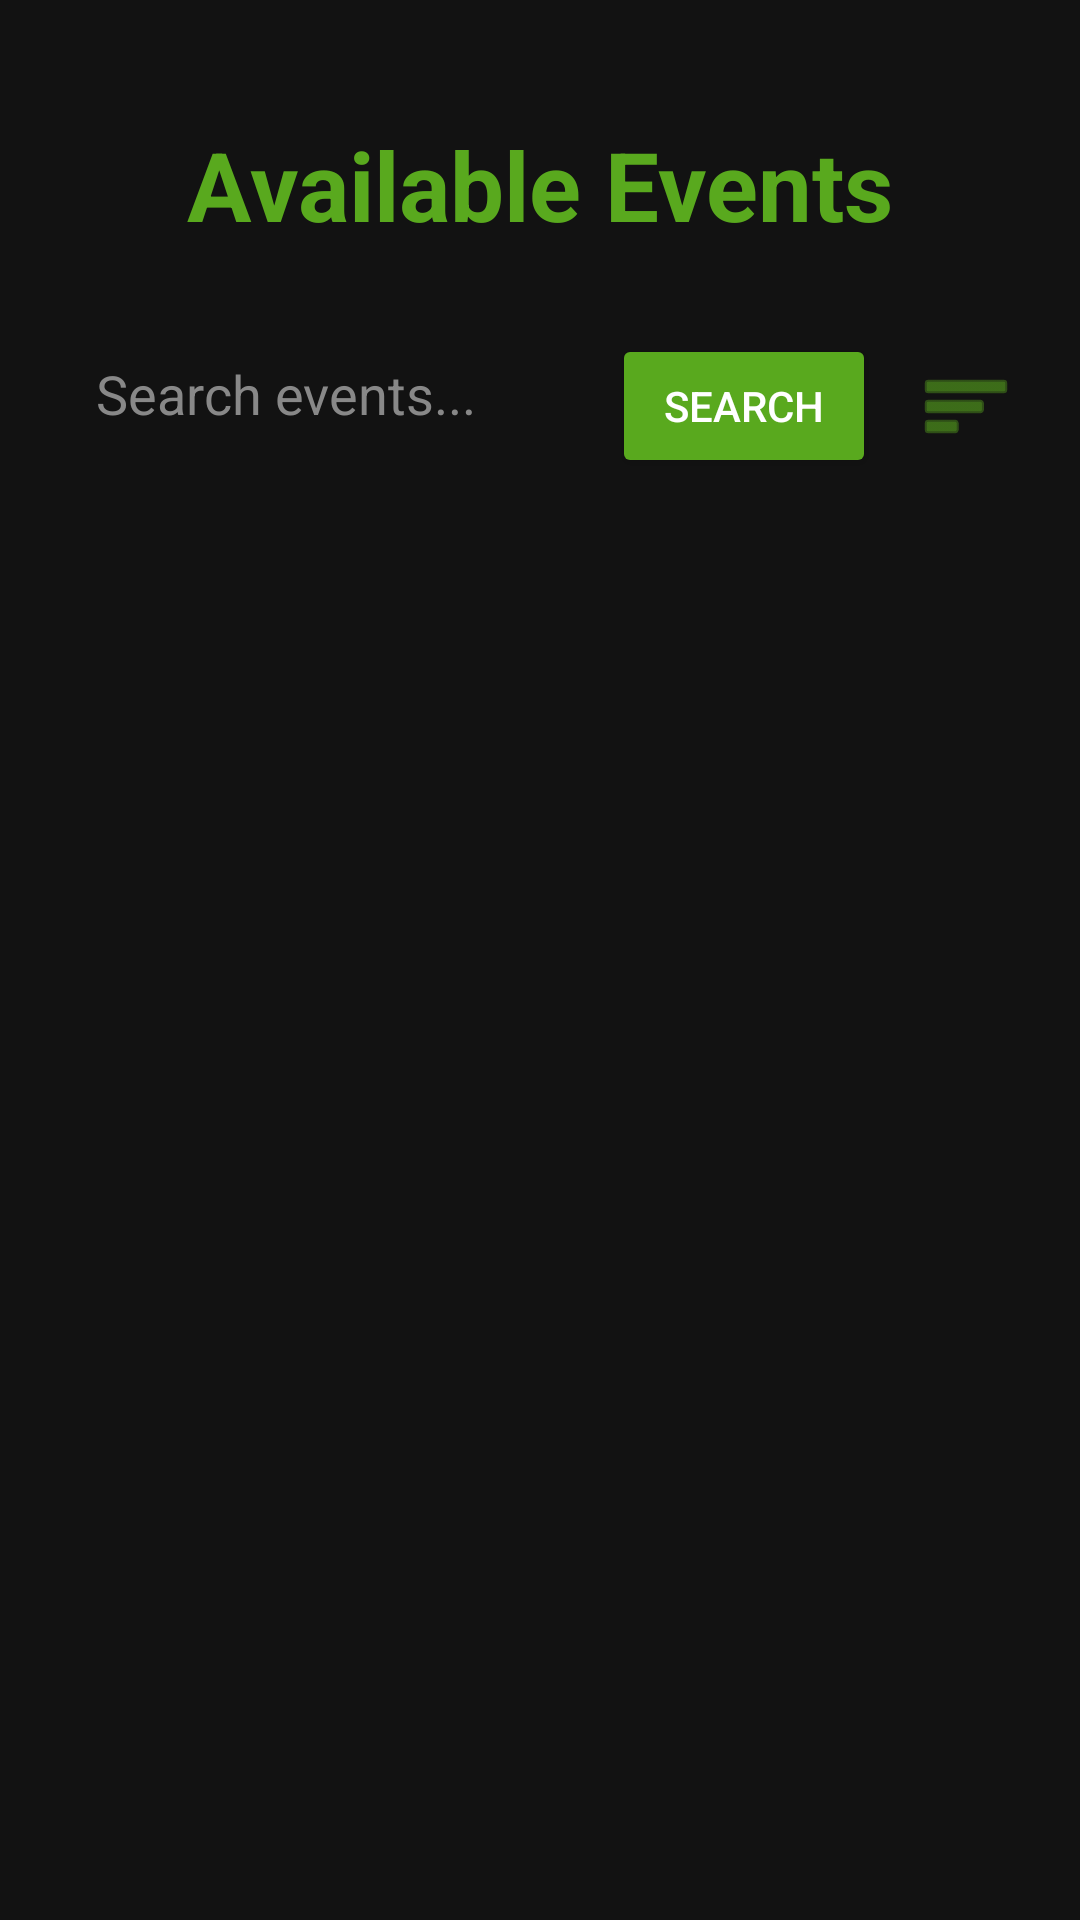

Icon bounding boxes for this 1080 x 1920 phone screenshot, format (x1, y1, x2, y2):
Filter events: (925, 380, 1007, 433)
